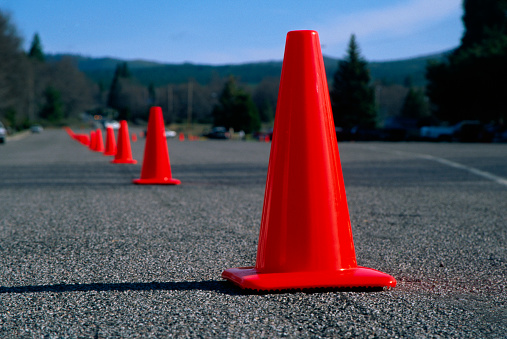trafficcone: (219, 29, 397, 291), (133, 105, 181, 185), (112, 119, 137, 164), (104, 125, 118, 157), (91, 129, 105, 152), (88, 130, 96, 150)
